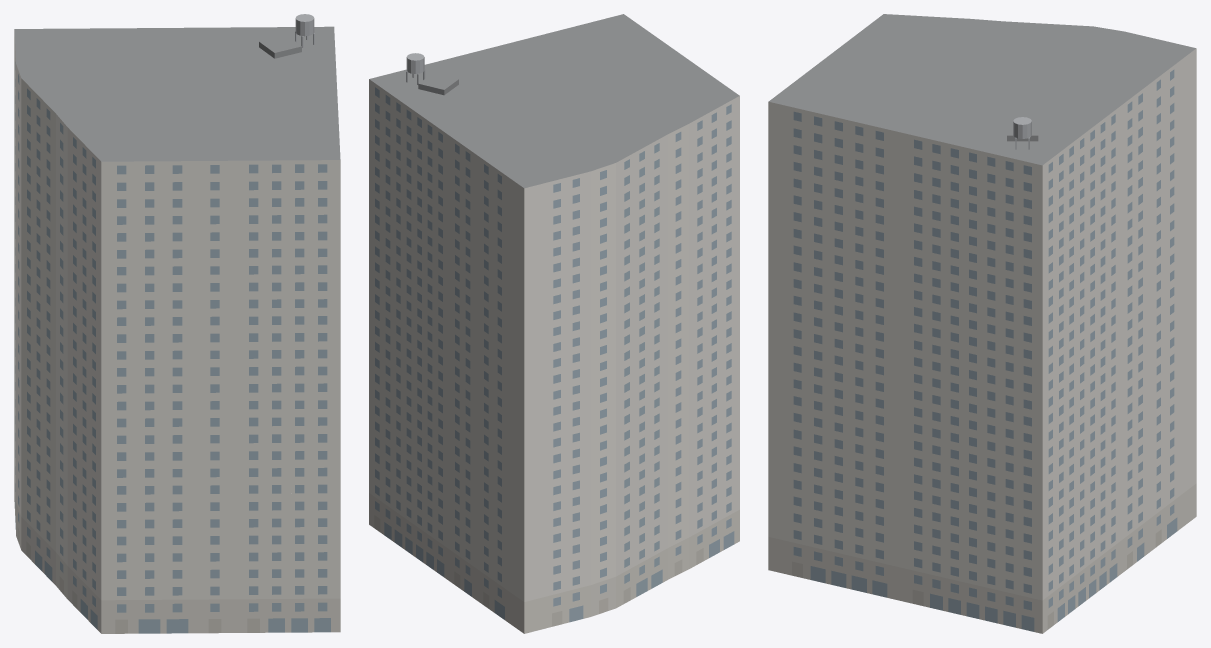
The model's file is doitt-131170__lod_1.glb.
3 views of the same model, side by side, from view 1: azimuth 30°, elevation 25°; view 2: azimuth 150°, elevation 25°; view 3: azimuth 270°, elevation 25° (orthographic). The views are drawn at different scales.
Size of the model in its own units: 68.79 by 105 by 82.15.
